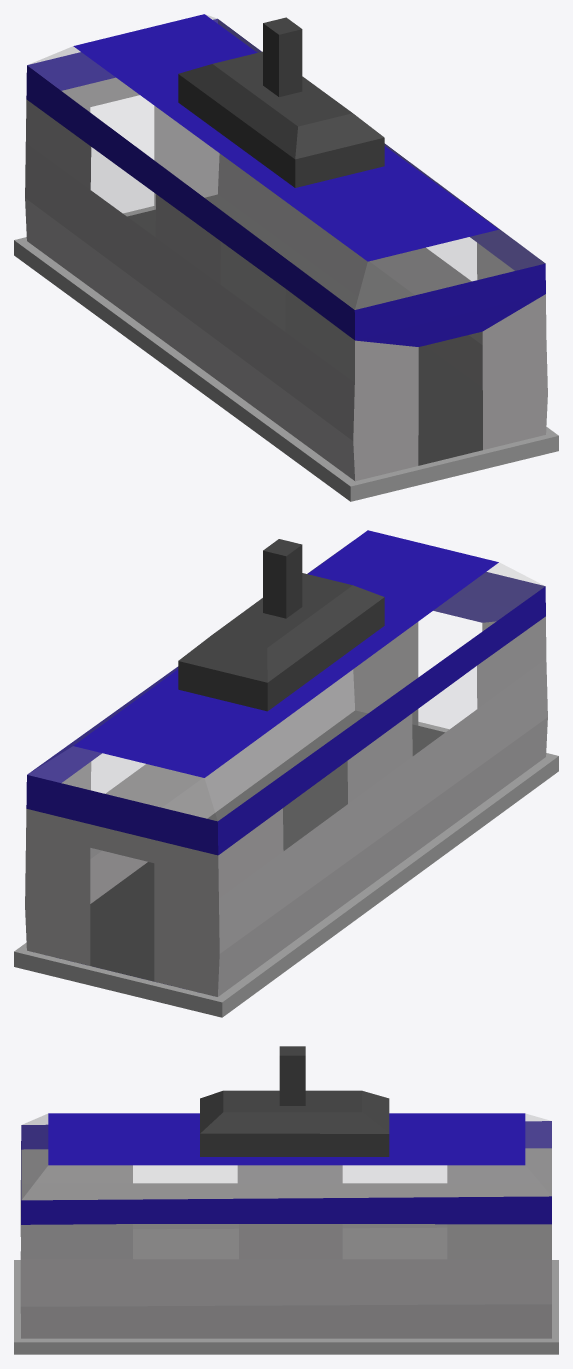
File: traincartsample.glb
3 views of the same model, one above another, from view 1: azimuth 30°, elevation 25°; view 2: azimuth 150°, elevation 25°; view 3: azimuth 270°, elevation 25° (orthographic). The views are drawn at different scales.
Visible parts, largest first — view 1: Cube; view 2: Cube; view 3: Cube.
Boxes of the visible parts, x1,y1,x2,y2 form: Cube: [14, 14, 558, 501]; Cube: [14, 530, 558, 1017]; Cube: [14, 1046, 558, 1354].
Bounding box in the file's own units: 2.18 × 3.25 × 6.11.
